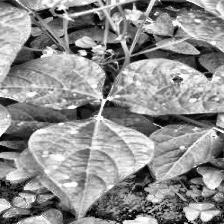Bean Rust: (28, 117, 156, 219), (0, 52, 105, 111), (108, 58, 214, 115), (148, 125, 221, 184), (0, 2, 33, 93), (180, 7, 224, 66)
